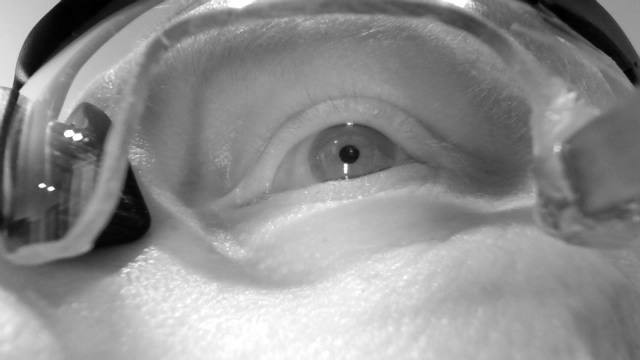pupil: (339, 144, 361, 165)
